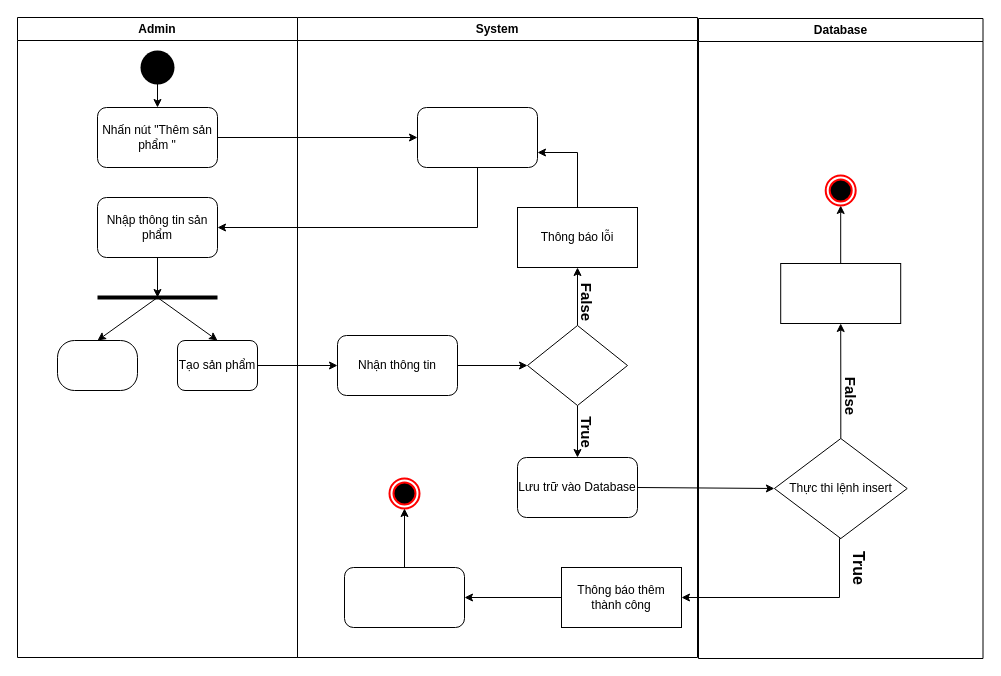
Some shapes in this 1001 by 676 pixel diagram are drawn without their labels. Each missing label, with the centre of its shape:
"Hiển thị form thêm sản phẩm" belongs at pixel 477 137.
"Lỗi code / ràng buộc Database" belongs at pixel 840 293.
"Quay lại danh sách" belongs at pixel 97 365.
"Quay lại trang danh sách sản phẩm" belongs at pixel 404 597.
"Validate dữ liệu" belongs at pixel 577 365.
